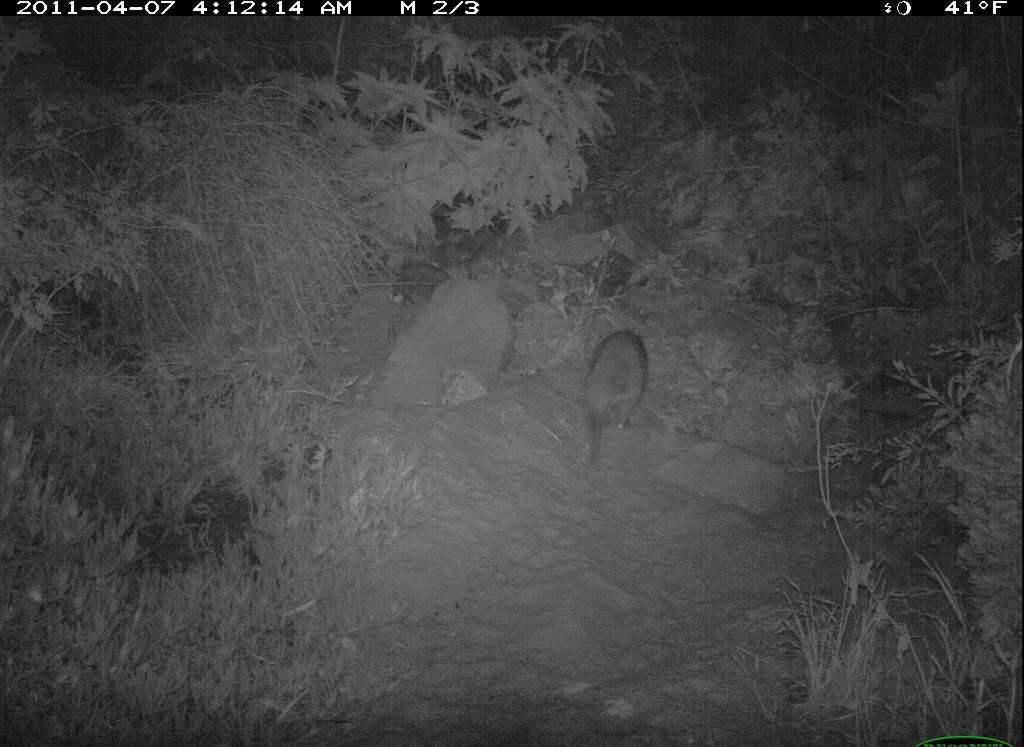raccoon: (569, 304, 710, 472)
